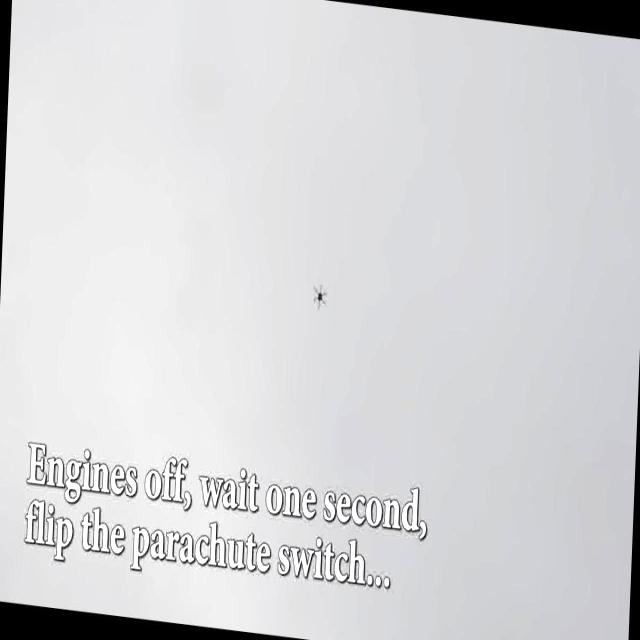drone: (308, 280, 330, 317)
